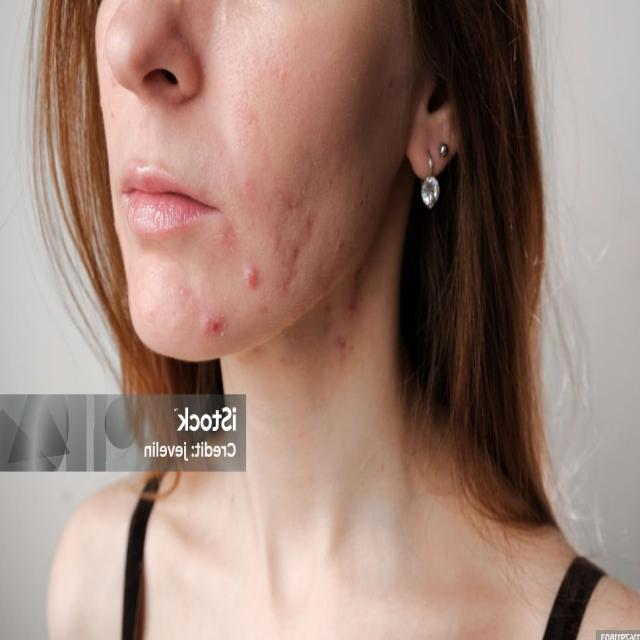papule: (271, 188, 327, 282), (328, 312, 350, 377), (201, 307, 236, 346), (243, 261, 265, 301), (216, 214, 238, 253), (243, 177, 259, 202)
